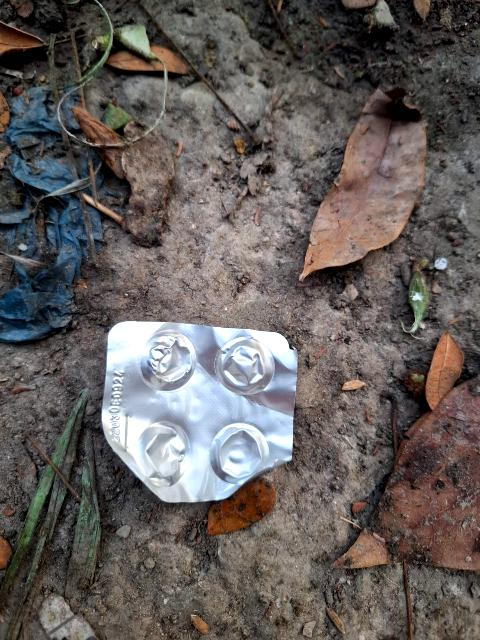medicine: (111, 318, 293, 497)
